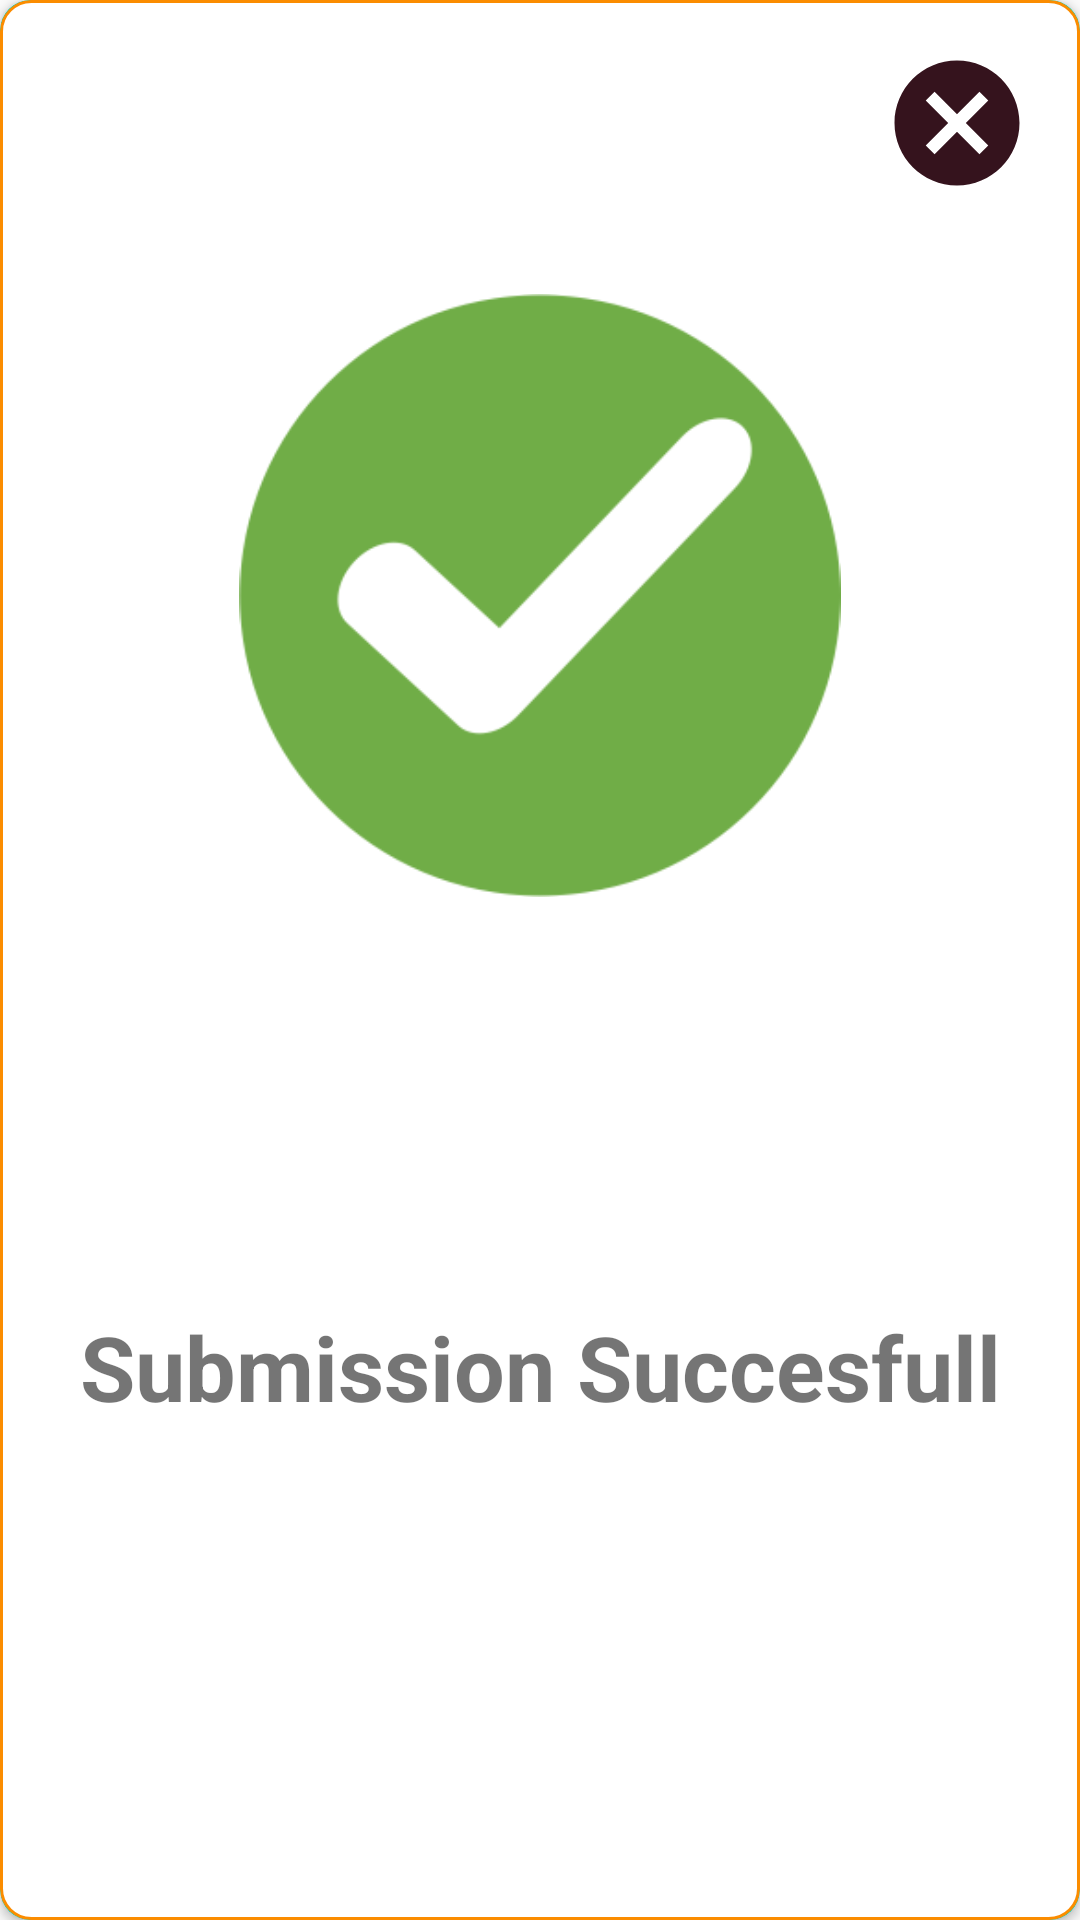

Icons on this 1080×1920 Android screen, each with its box as (x1, y1, x2, y2):
cancel: (894, 60, 1020, 186)
